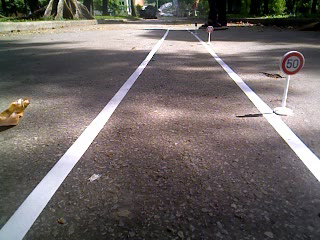limit 50: (279, 49, 307, 76)
